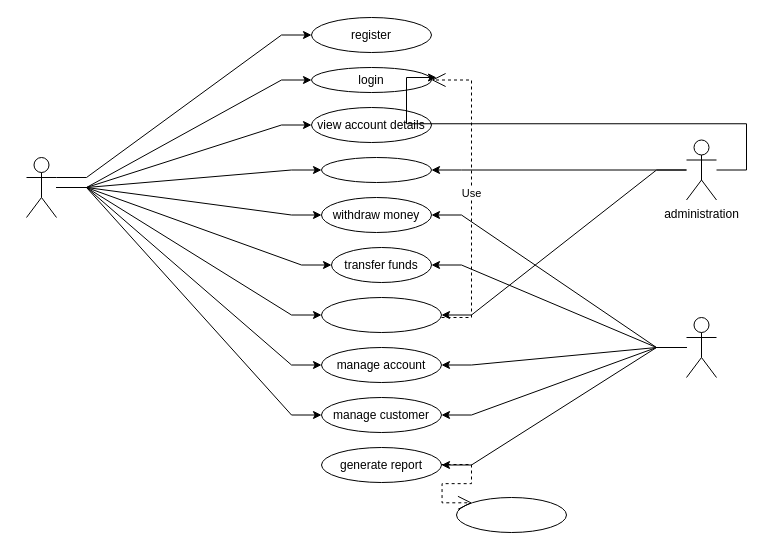
Image size: 772x550. Some labels were removed from this diagram. The centre of each missing label's shape, as x and y in pixels:
"bank employee" goes at pixel 701 347.
"check balance" goes at pixel 511 514.
"customer" goes at pixel 41 187.
"deposite money" goes at pixel 376 169.
"view transfer history" goes at pixel 381 314.
